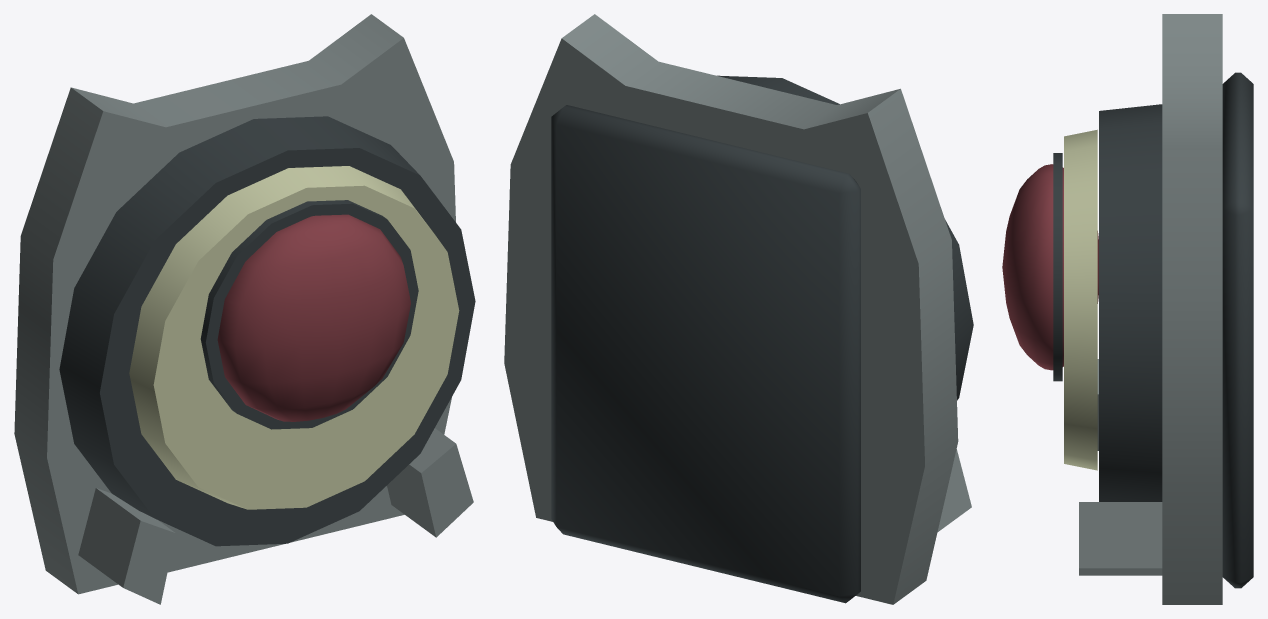
File: person_pack_cerebrex.obj
3 renders of one model, left to right at view 1: azimuth 30°, elevation 25°; view 2: azimuth 150°, elevation 25°; view 3: azimuth 270°, elevation 25°, orthographic. The views are drawn at different scales.
Visible parts, largest first — view 1: source_component_001, source_component_002, source_component_003, source_component_005, source_component_004, source_component_006, source_component_007; view 2: source_component_000, source_component_001, source_component_002, source_component_006; view 3: source_component_001, source_component_002, source_component_000, source_component_003, source_component_005, source_component_007, source_component_004.
Boxes of the visible parts, x1=… form: source_component_001: x1=14, y1=14, x2=455, y2=594; source_component_002: x1=59, y1=116, x2=475, y2=546; source_component_003: x1=129, y1=166, x2=459, y2=509; source_component_005: x1=217, y1=214, x2=410, y2=421; source_component_004: x1=200, y1=200, x2=418, y2=429; source_component_006: x1=78, y1=488, x2=175, y2=604; source_component_007: x1=387, y1=428, x2=473, y2=537; source_component_000: x1=551, y1=105, x2=860, y2=603; source_component_001: x1=504, y1=14, x2=958, y2=604; source_component_002: x1=717, y1=75, x2=973, y2=400; source_component_006: x1=937, y1=449, x2=971, y2=532; source_component_001: x1=1162, y1=14, x2=1222, y2=604; source_component_002: x1=1099, y1=104, x2=1162, y2=501; source_component_000: x1=1222, y1=72, x2=1253, y2=588; source_component_003: x1=1064, y1=129, x2=1097, y2=470; source_component_005: x1=1002, y1=164, x2=1098, y2=370; source_component_007: x1=1079, y1=502, x2=1162, y2=575; source_component_004: x1=1053, y1=153, x2=1062, y2=381.
Bounding box in the file's own units: 0.33 × 0.364 × 0.187.
